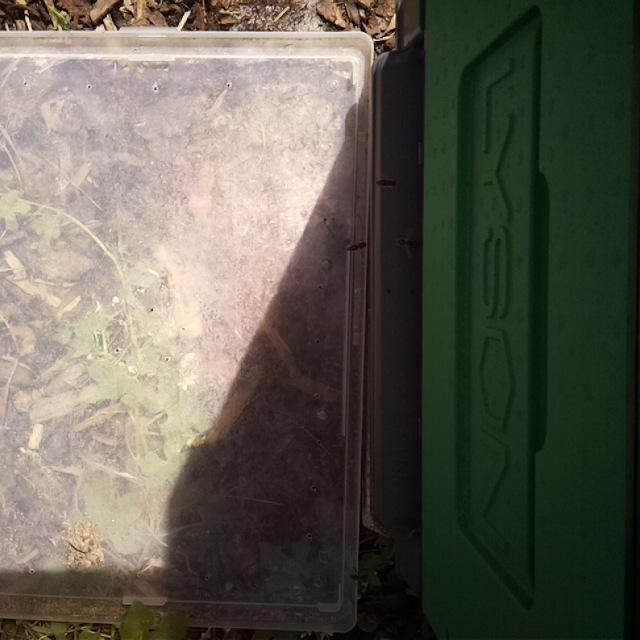worker-bee: (392, 230, 421, 257), (345, 236, 371, 258), (372, 174, 401, 192)
